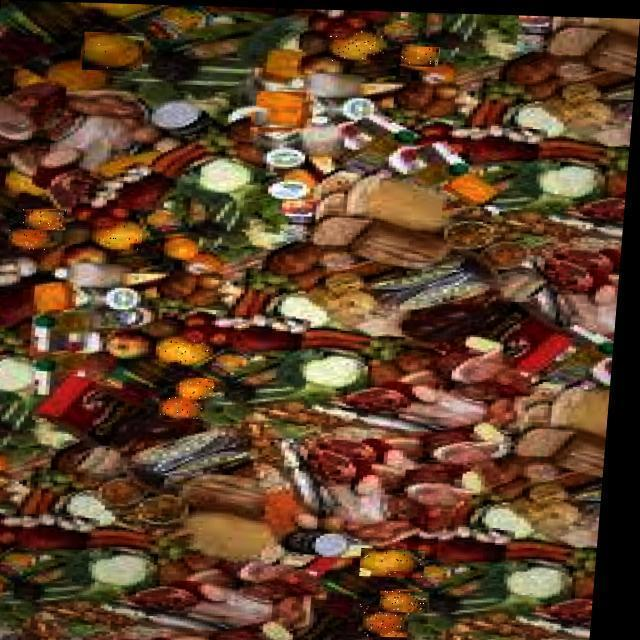cardboard: (1, 5, 633, 638)
